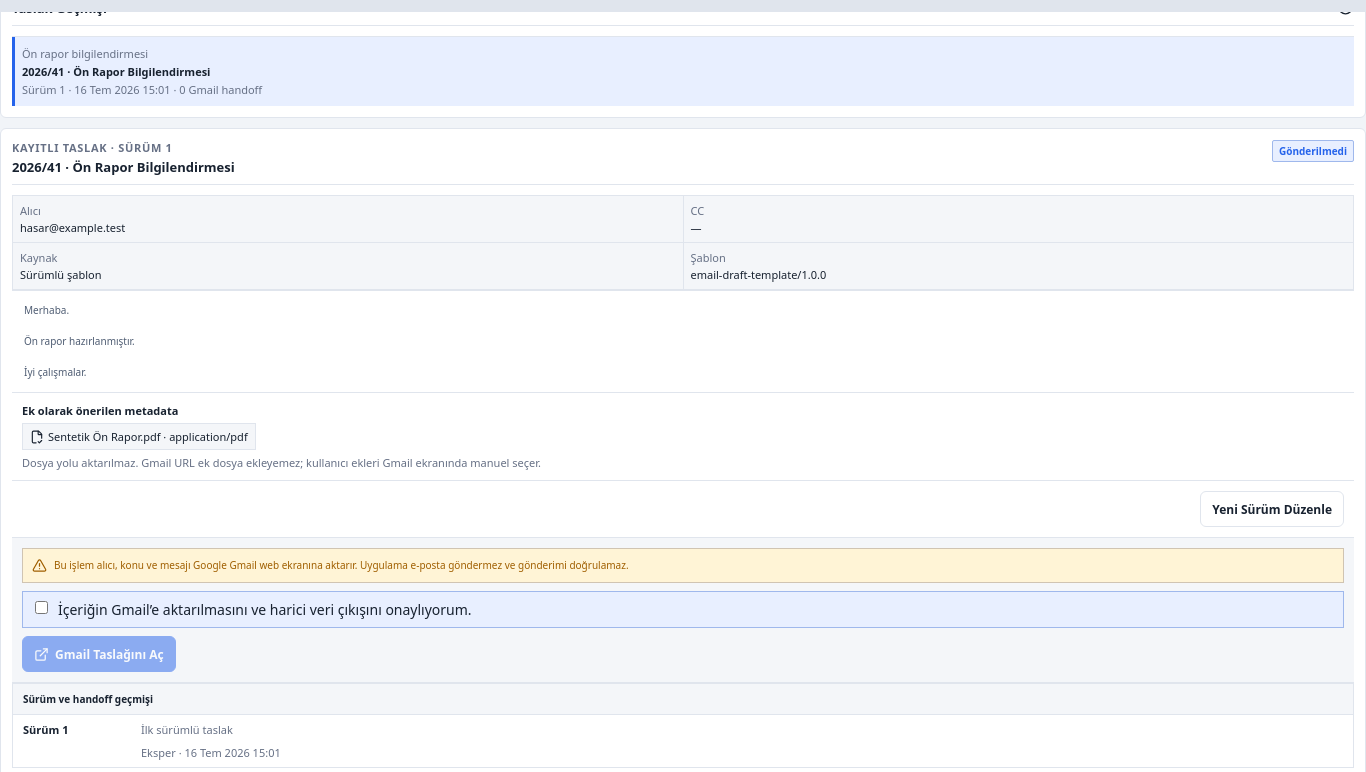
Scenario: EmailDraftApiModule › düzeltmeyi mevcut sürümü ezmeden yeni sürüm olarak gönderir
(page scrolled)
expect the text "Gönderilmedi" is shown: met, box [1272,140,1354,162]
Click the button "Yeni Sürüm Düzenle" at (1272, 509), box [1200,491,1344,527]
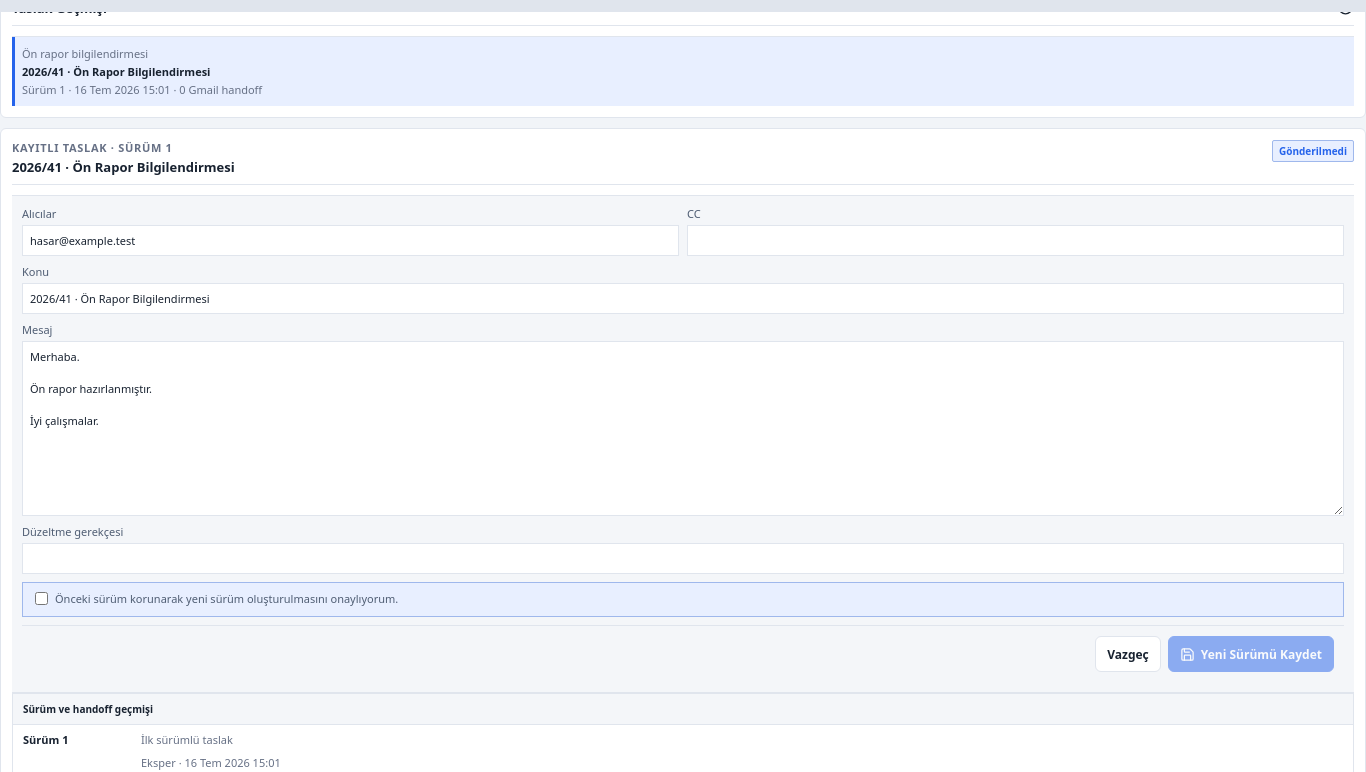
Type "Kullanıcı düzeltmesi." into the field labelled "Düzeltme gerekçesi" at (683, 559), box [22,543,1344,574]
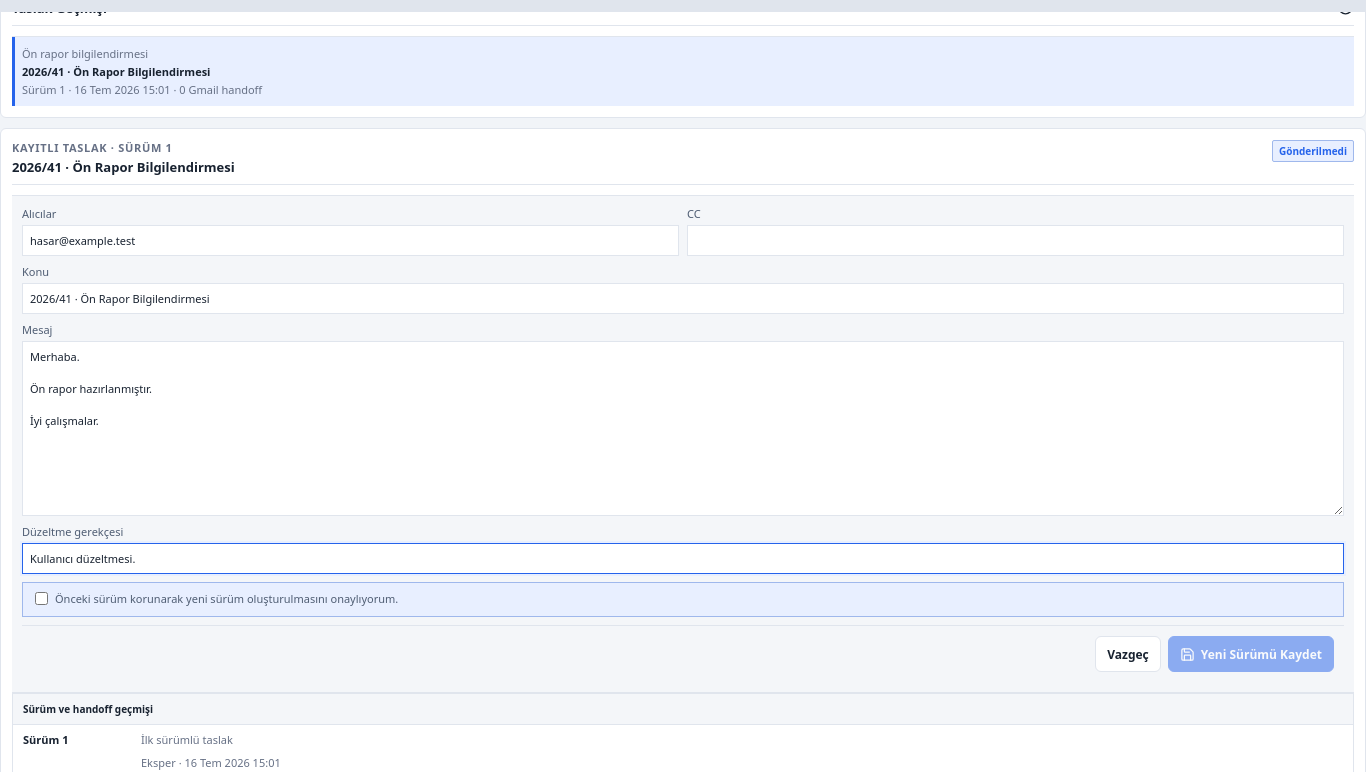
Click the checkbox labelled "Önceki sürüm korunarak" at (42, 599), box [35,592,48,605]
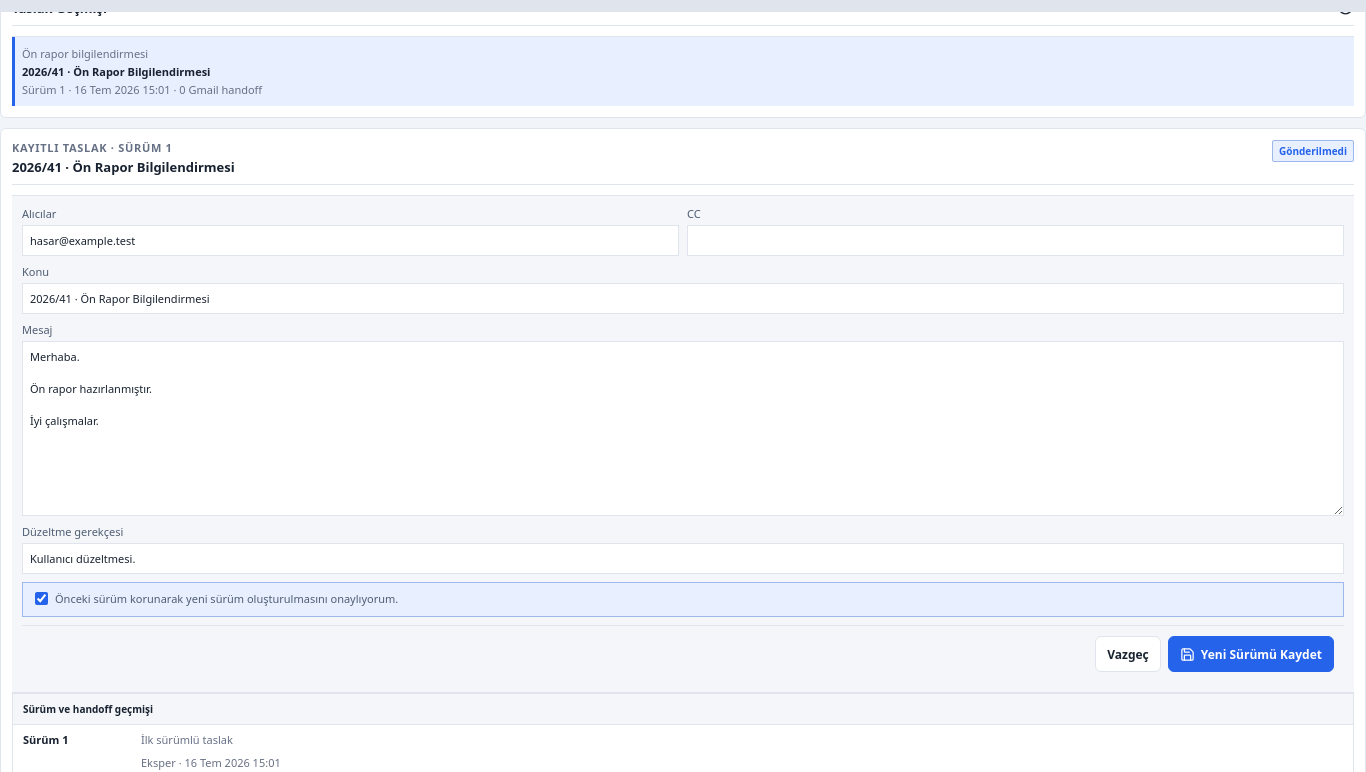
Click the button "Yeni Sürümü Kaydet" at (1251, 654), box [1168,636,1334,672]
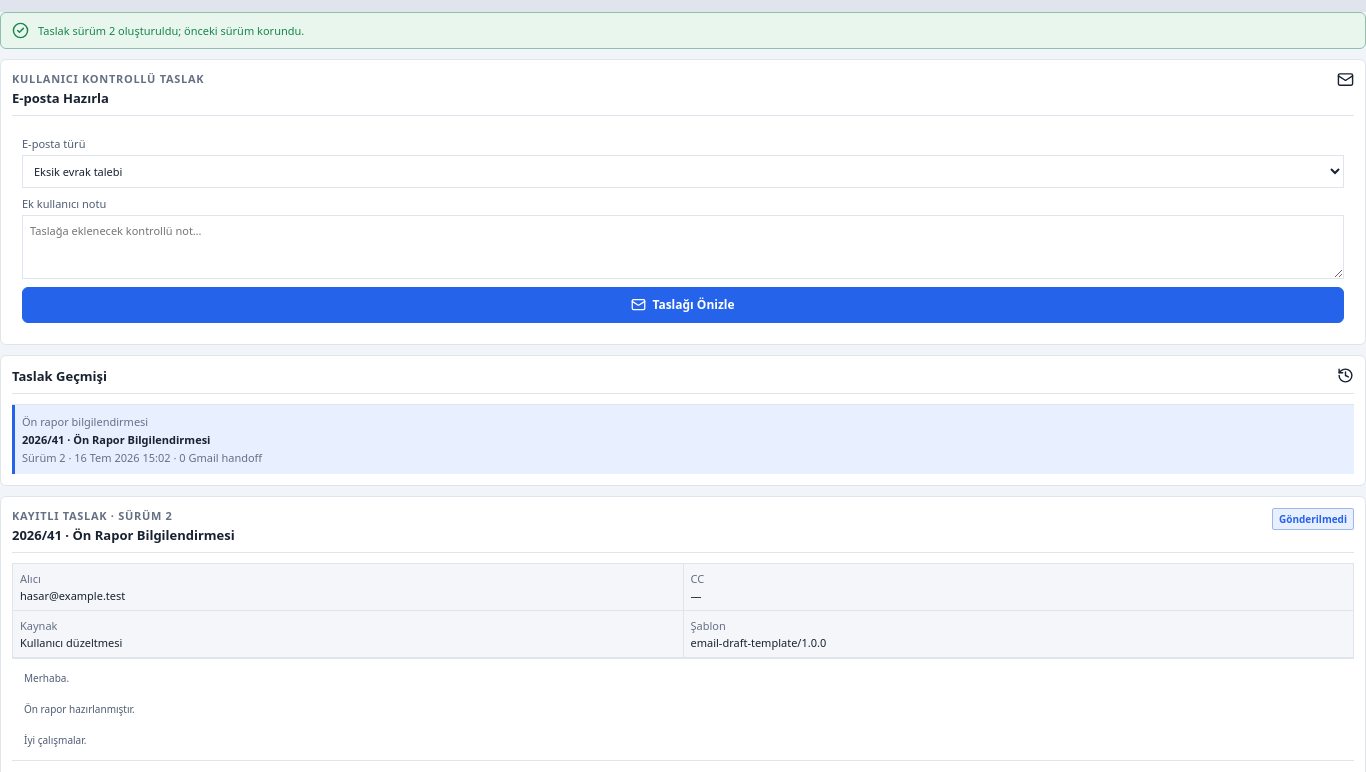
expect the text "Taslak sürüm 2 oluşturuldu; önceki sürüm korundu." is shown: met, box [38,23,304,38]
